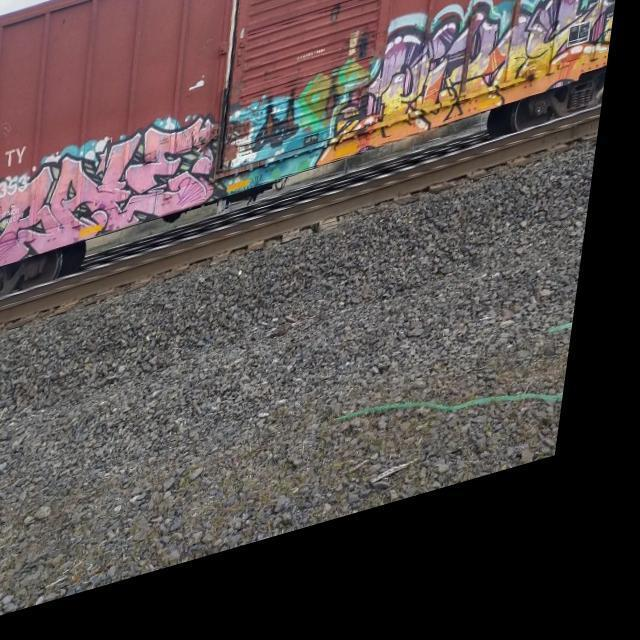-: (230, 0, 626, 212), (0, 122, 230, 274), (0, 142, 40, 209)
